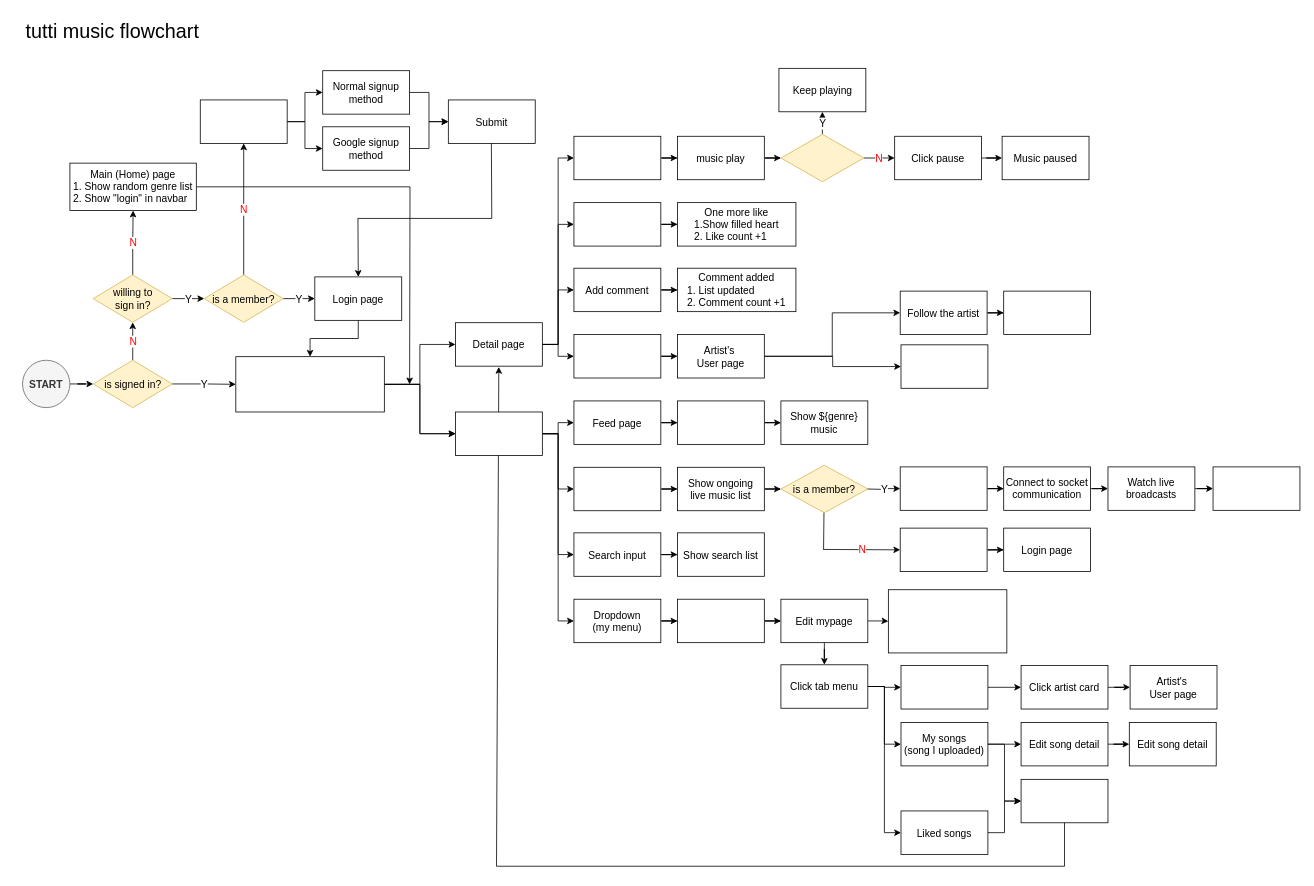
The diagram is 1314 pixels wide and 886 high, and some of its shapes have lost their labels. The shapes that lost their labels are listed below. From the top down, each one's centre as x and y in pixels, then its label:
At pixel 243 121: "Signup page".
At pixel 617 157: "Click play (music)".
At pixel 822 158: "keep listening?".
At pixel 617 224: "Click heart (like)".
At pixel 1047 312: "Added to my following list".
At pixel 617 356: "Click artist name".
At pixel 944 366: "check out artist's music".
At pixel 309 384: "Main (Home) page 1. Show my favorite genre list 2. Show user info in navbar".
At pixel 498 433: "Navbar menu".
At pixel 720 422: "Click ${genre}".
At pixel 617 488: "Live page (live broadcasts)".
At pixel 943 488: "Enter a room".
At pixel 1256 488: "Chat with other participants".
At pixel 943 549: "Notify user to sign in".
At pixel 720 620: "Mypage".
At pixel 947 621: "Edit my info 1. Edit profile 2. Add my youtube url 3. Add my instagram url".
At pixel 944 687: "Following list (artists I follow)".
At pixel 1064 801: "Click song card".
